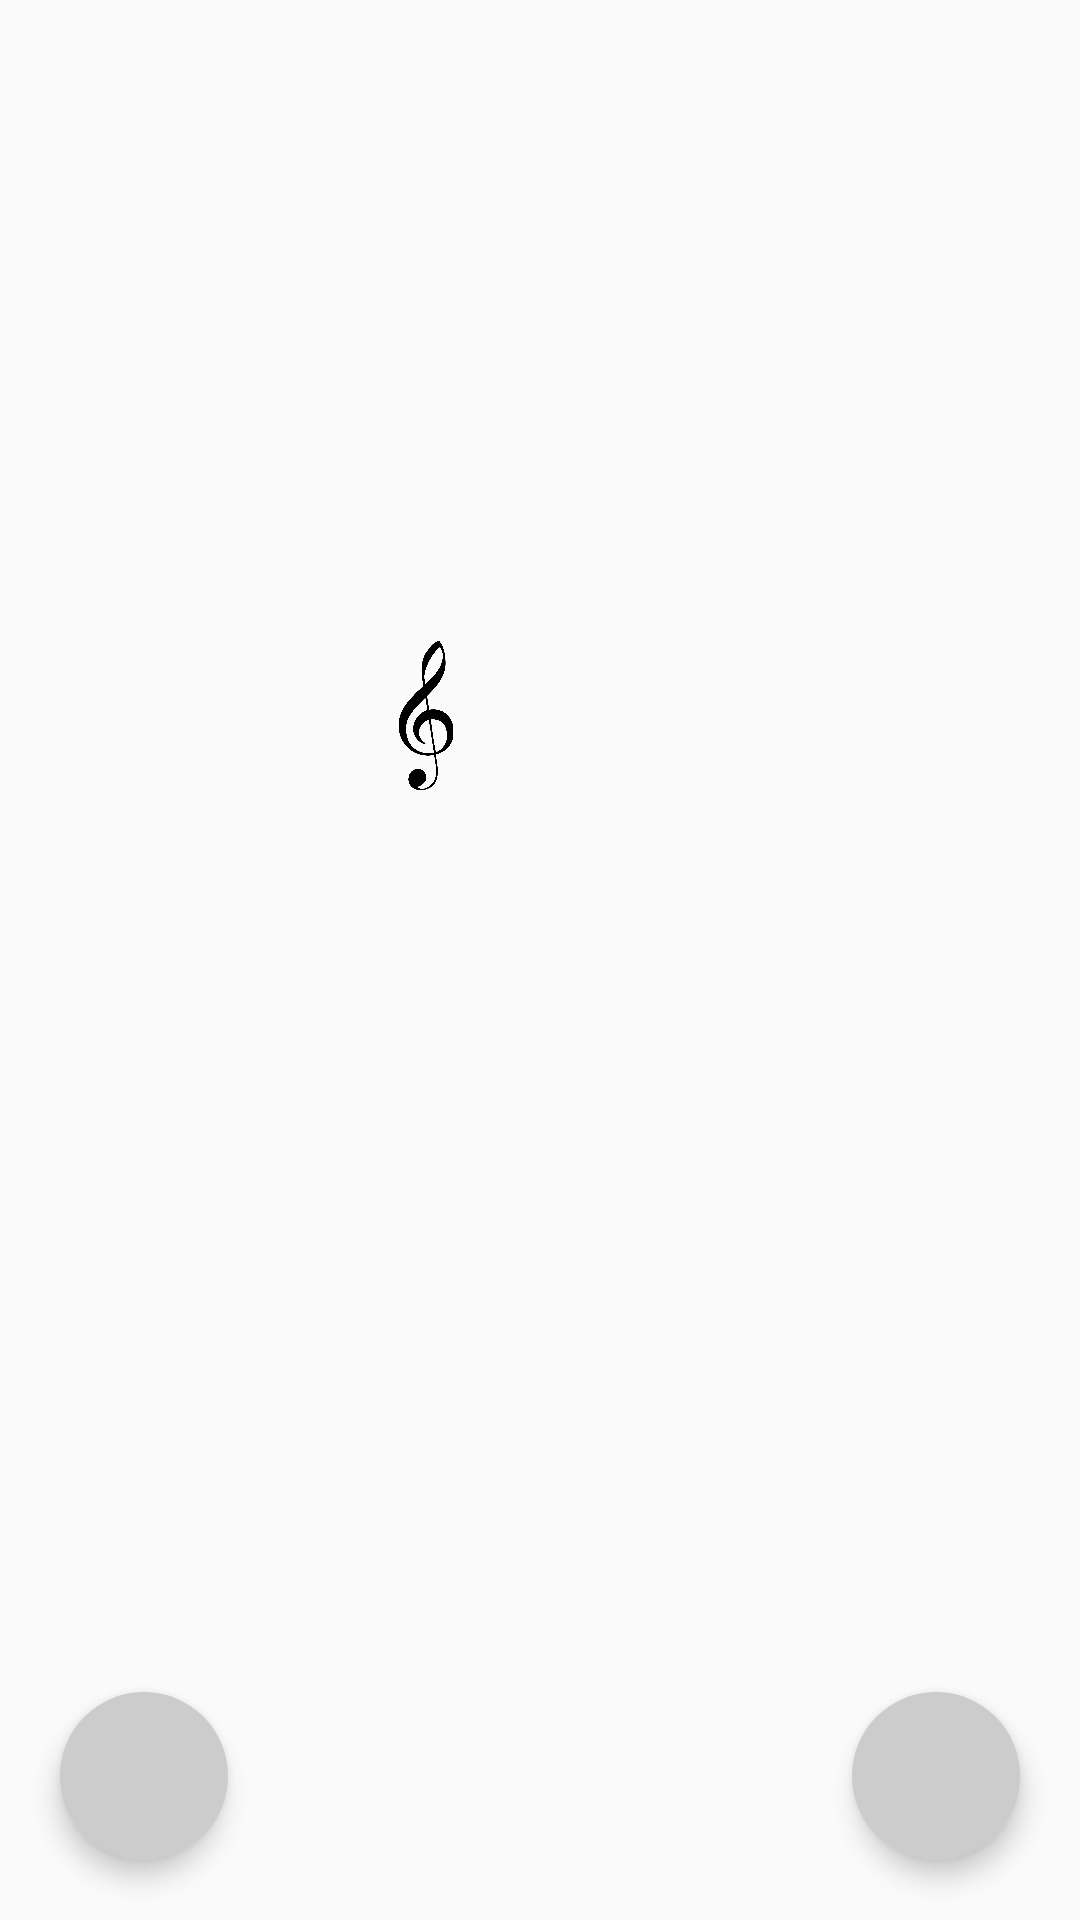

Icons on this 1080 × 1920 Android screen, each with the point to tap as [x,y]:
gkey: [426,715]
